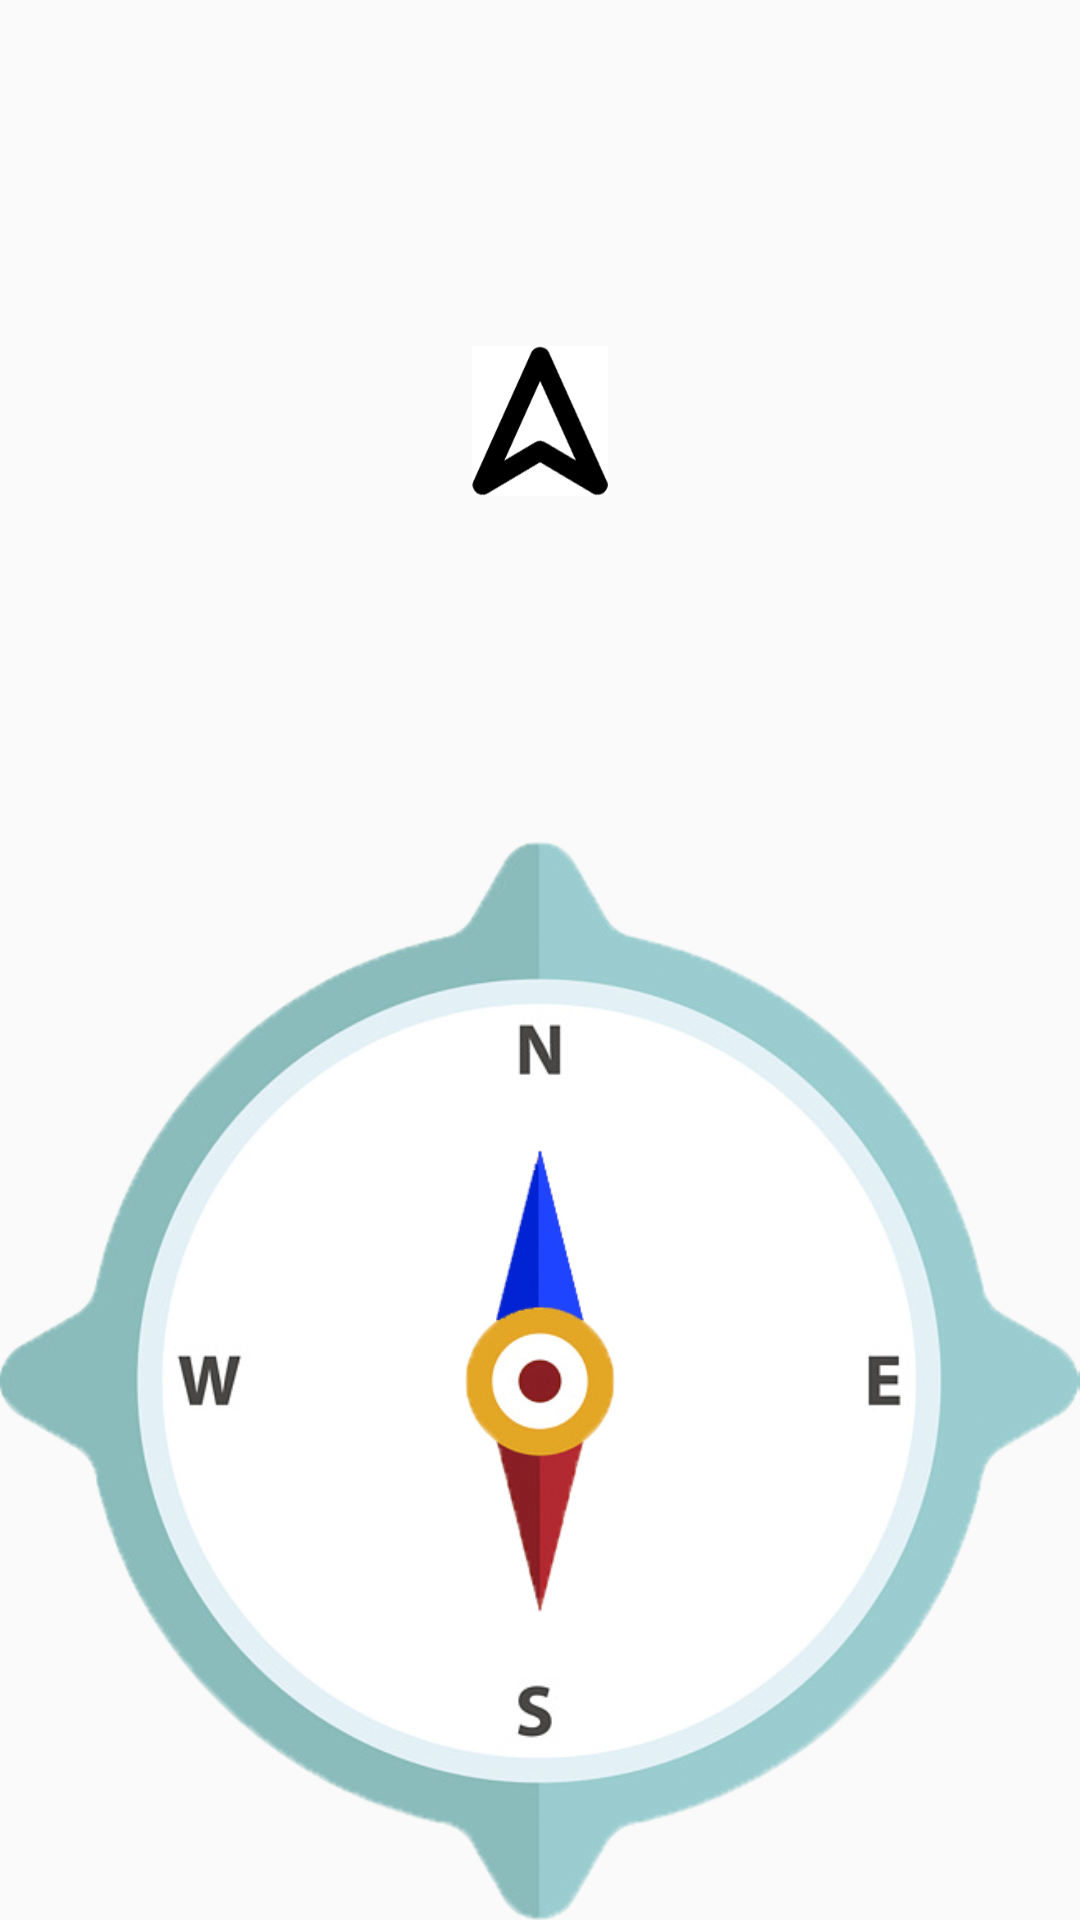

Named icons in this screenshot (1080×1920) and their centers, (x=x, y=y):
arrow: (x=540, y=420)
